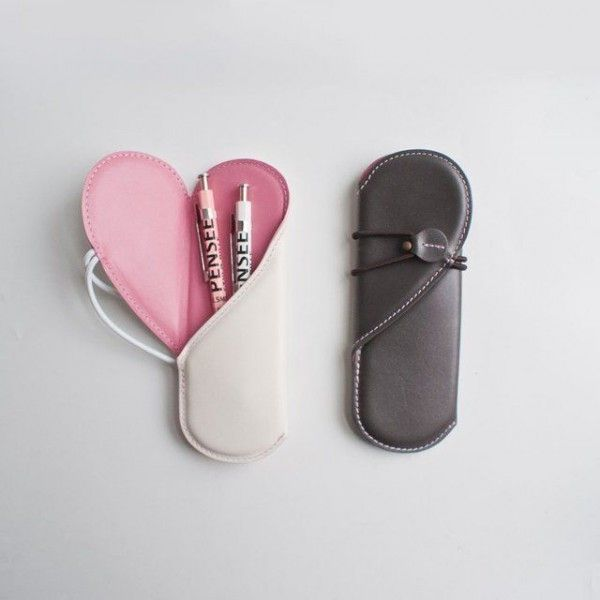cuero: (80, 149, 472, 462)
